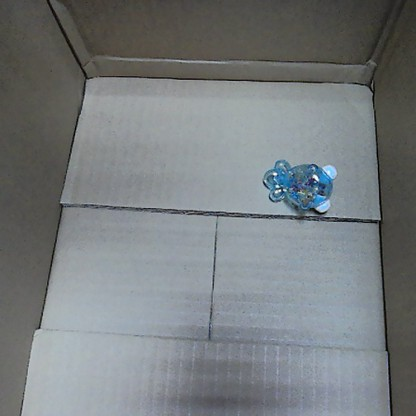bluefish: (260, 149, 338, 218)
